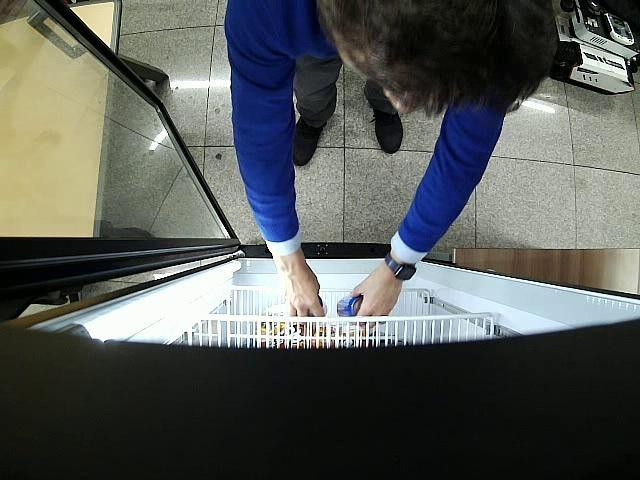13_pocariSweat: (338, 295, 363, 317)
